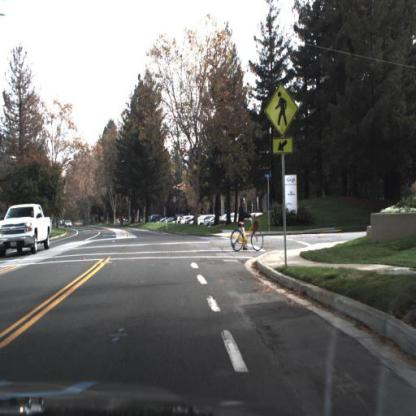car: (1, 204, 55, 259)
pedestrian: (232, 195, 255, 251), (235, 197, 254, 251)
